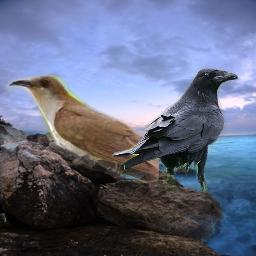Crow: (111, 68, 238, 192)
Cuckoo: (5, 75, 159, 188)
